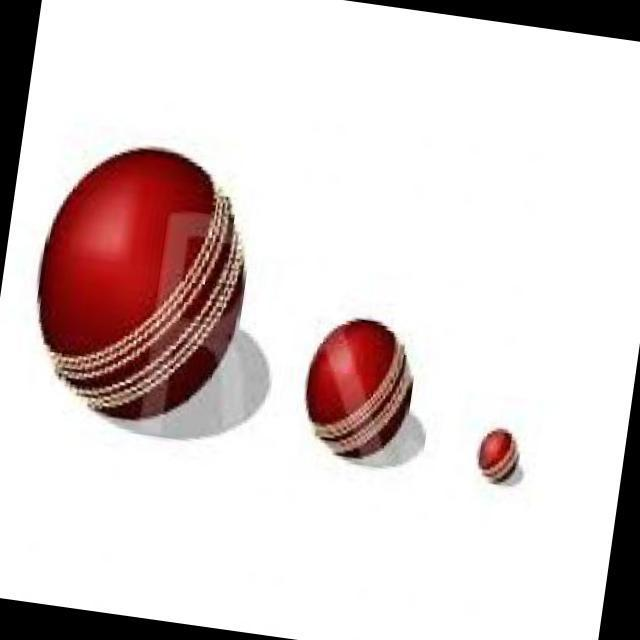-: (14, 147, 267, 438), (278, 296, 433, 506)
